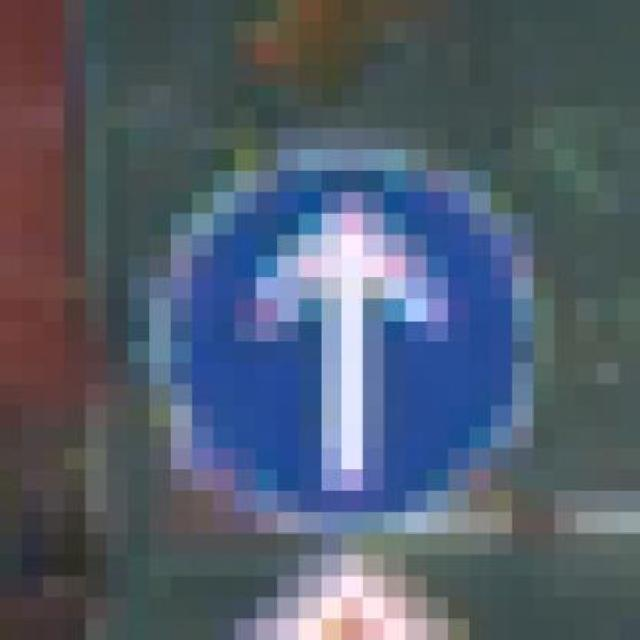Straight Ahead Only: (129, 107, 576, 555)
